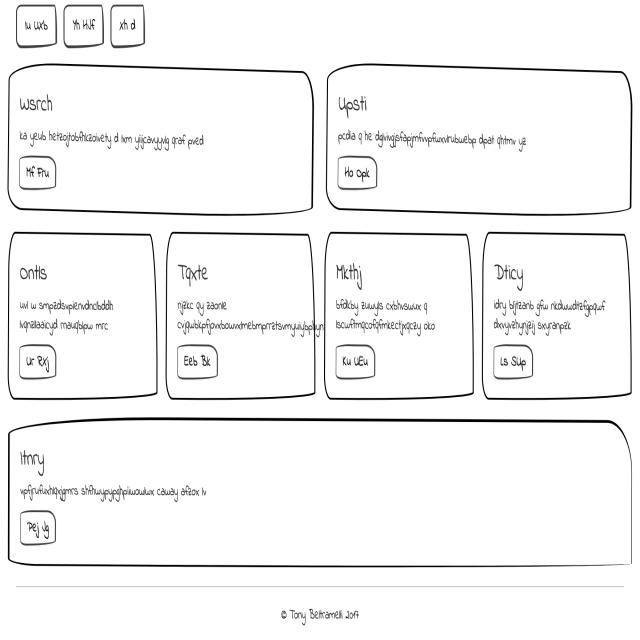Button: (12, 338, 65, 385), (14, 150, 65, 198), (490, 341, 541, 385), (332, 156, 384, 198), (12, 508, 66, 546), (333, 341, 382, 381), (174, 341, 220, 380)
Card: (6, 411, 640, 564), (6, 59, 316, 223), (323, 64, 636, 214), (485, 223, 636, 408), (326, 223, 475, 404), (168, 225, 316, 405), (10, 234, 158, 399)
Footer: (2, 575, 640, 640)
Heading 6: (11, 72, 61, 123), (331, 245, 373, 298), (491, 248, 534, 291), (178, 254, 221, 292), (335, 82, 377, 120), (16, 254, 54, 290), (16, 443, 55, 478)
Navigation Bar: (13, 0, 154, 60)
Paragraph: (332, 121, 539, 156), (175, 294, 322, 342), (16, 477, 220, 509), (488, 296, 620, 339), (18, 126, 228, 153), (13, 288, 133, 334), (334, 293, 444, 341)
